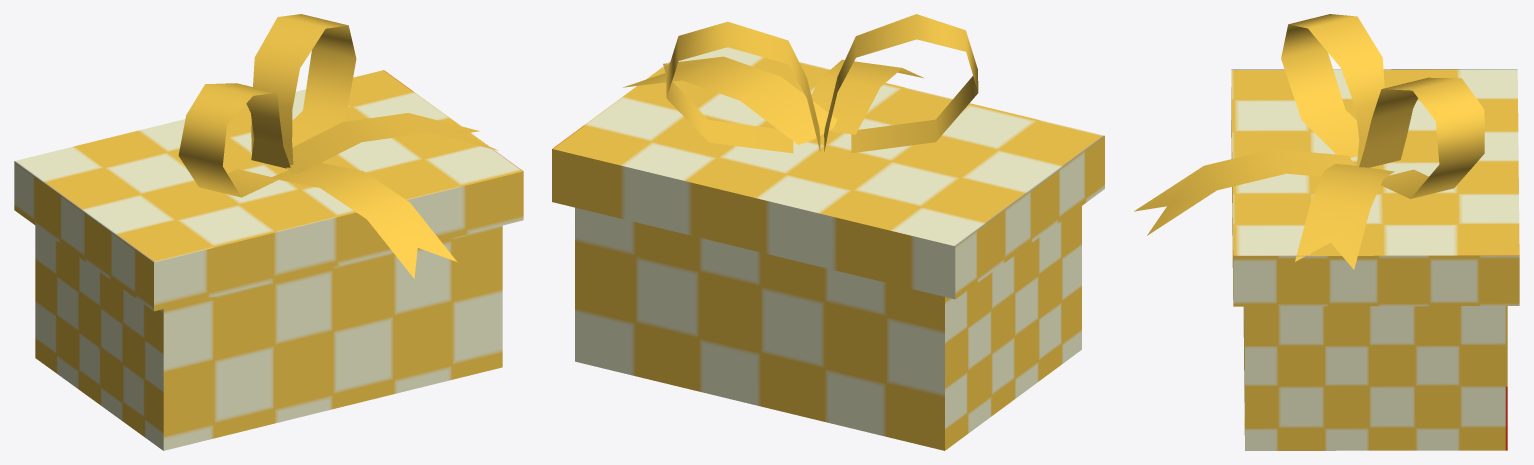
File: Present02.glb
3 renders of one model, left to right at view 1: azimuth 30°, elevation 25°; view 2: azimuth 150°, elevation 25°; view 3: azimuth 270°, elevation 25°, orthographic. The views are drawn at different scales.
Visible parts, largest first — view 1: Present02; view 2: Present02; view 3: Present02.
Boxes of the visible parts, <box> form: Present02: <box>14,14,523,450</box>; Present02: <box>552,14,1104,450</box>; Present02: <box>1134,14,1519,450</box>.
Size of the model in its own units: 1.39 by 1.04 by 1.17.
Materials: 1 (1 with a texture image).
